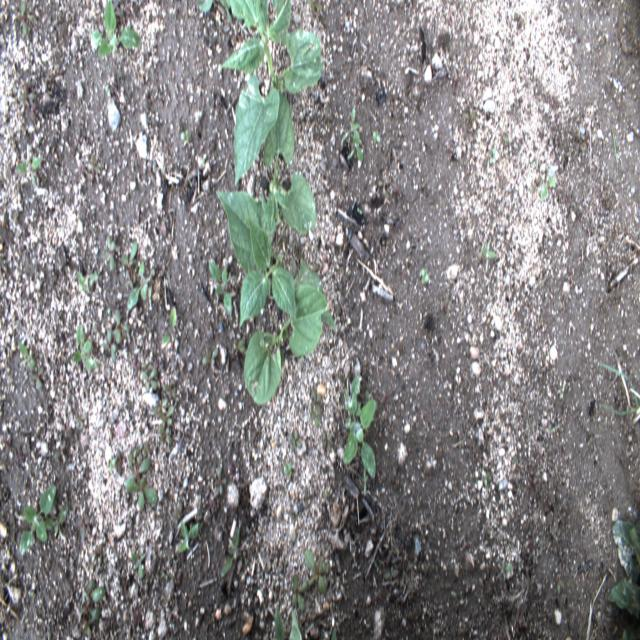crop: (218, 0, 324, 188), (243, 258, 340, 405), (215, 190, 297, 330), (261, 88, 316, 236), (608, 520, 640, 639)
weed: (342, 371, 376, 479), (90, 0, 140, 57), (19, 484, 55, 556), (125, 447, 158, 509), (208, 260, 236, 319), (127, 258, 155, 310), (79, 578, 104, 636), (72, 322, 97, 377), (304, 549, 328, 596), (220, 526, 240, 580), (14, 158, 44, 189), (349, 107, 364, 163), (121, 240, 137, 292), (42, 505, 68, 537), (161, 305, 176, 351), (178, 520, 198, 550), (113, 311, 131, 344), (292, 575, 308, 610), (101, 235, 116, 272), (19, 342, 35, 371), (139, 368, 158, 392), (102, 330, 116, 362), (160, 404, 173, 434), (541, 174, 555, 198), (18, 1, 27, 36)
